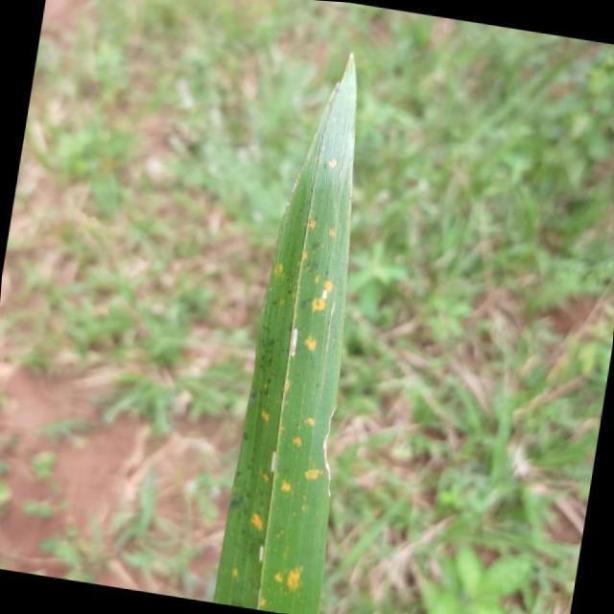Kalium: (213, 19, 358, 611)
